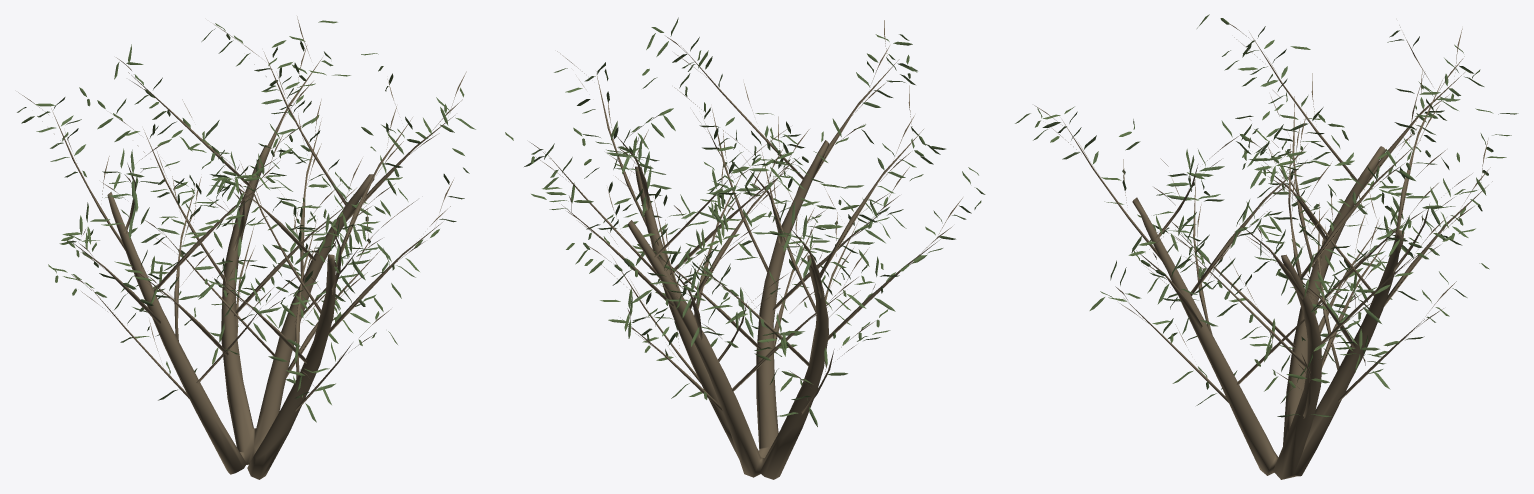
Rendered from Filaire_0_Niveau1.fbx.
The picture shows the model from 3 angles, left to right: view 1: azimuth 30°, elevation 25°; view 2: azimuth 150°, elevation 25°; view 3: azimuth 270°, elevation 25°; orthographic projection. The views are drawn at different scales.
Visible parts, largest first — view 1: Filaire_0_Niveau1; view 2: Filaire_0_Niveau1; view 3: Filaire_0_Niveau1.
Part boxes in pixels (x1=…): Filaire_0_Niveau1: x1=17, y1=16, x2=475, y2=479; Filaire_0_Niveau1: x1=505, y1=17, x2=985, y2=479; Filaire_0_Niveau1: x1=1015, y1=14, x2=1518, y2=479.
Bounding box in the file's own units: 114 × 107 × 118.
